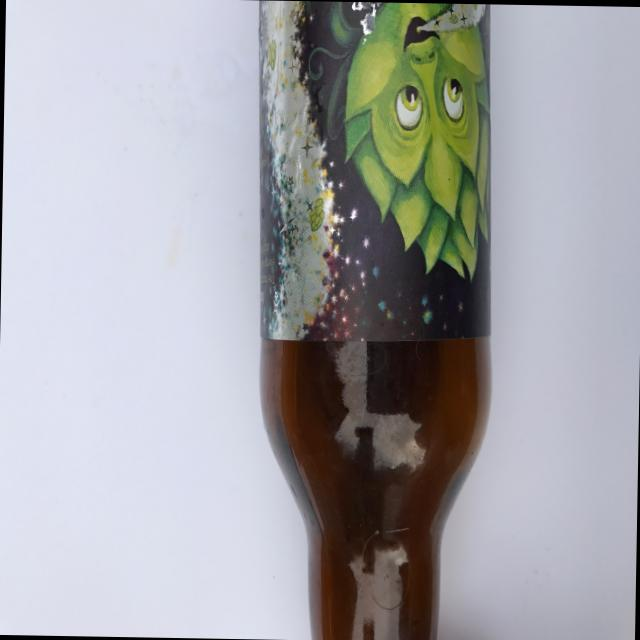Glass: (223, 0, 516, 640)
